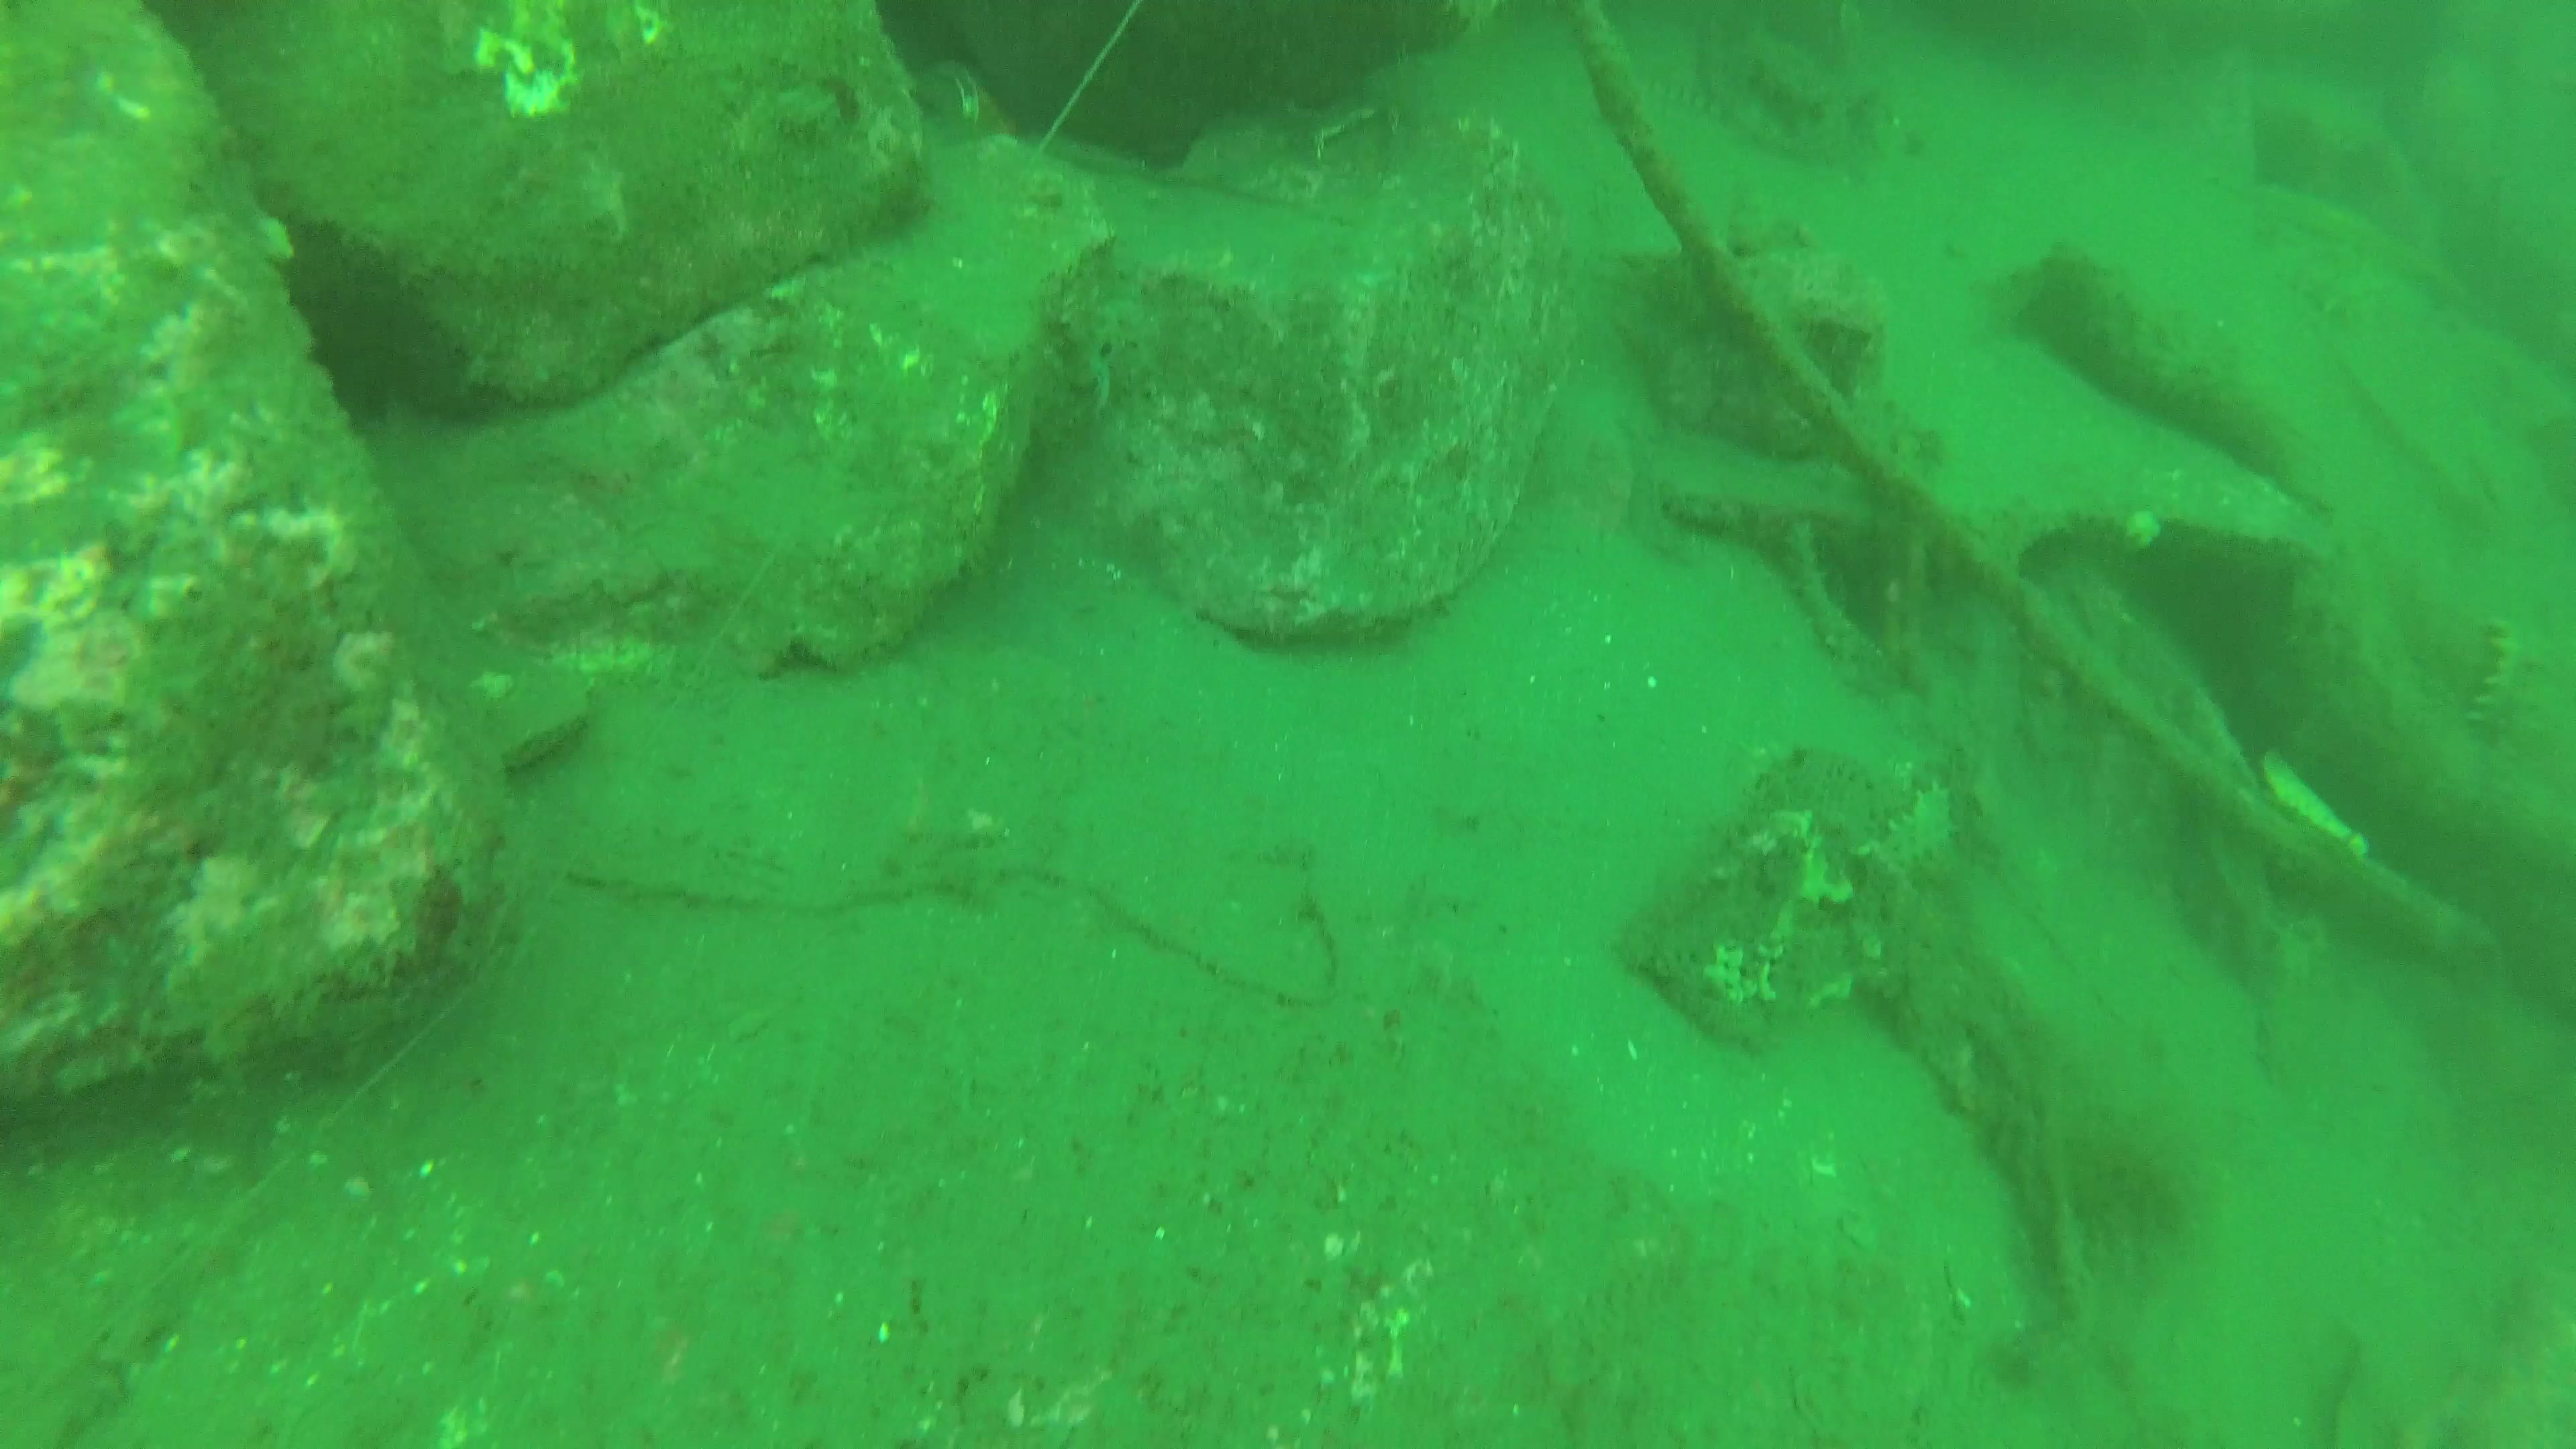holothurian: (2470, 619, 2534, 736), (1890, 786, 1957, 862)
